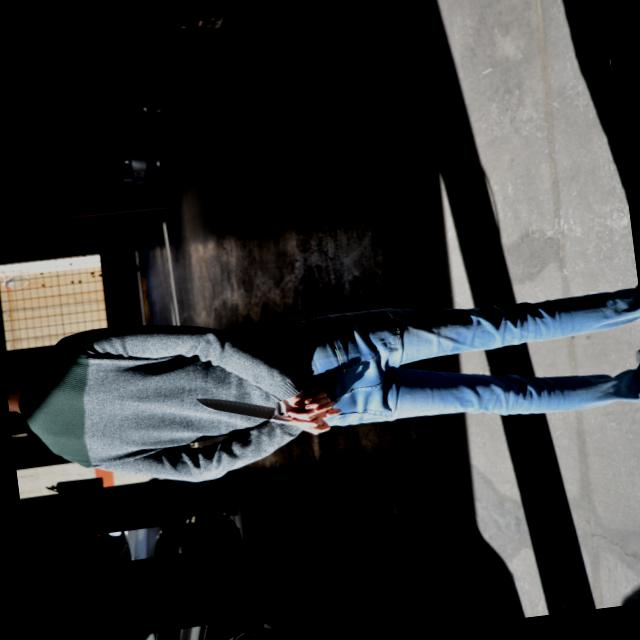knife: (190, 379, 326, 443)
